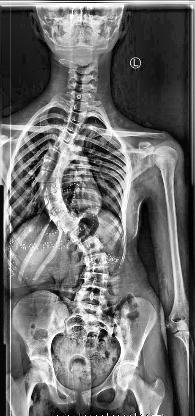Vertebrae: (72, 299, 108, 319), (80, 270, 110, 292), (75, 286, 111, 302), (40, 190, 66, 212), (68, 223, 94, 244), (80, 234, 104, 256), (81, 254, 111, 270), (40, 155, 64, 173), (60, 212, 80, 232), (45, 146, 67, 164), (39, 181, 67, 195), (50, 204, 71, 222), (36, 171, 62, 183), (64, 119, 82, 136), (60, 129, 76, 147), (69, 110, 87, 124), (70, 100, 90, 112), (54, 139, 68, 155)
